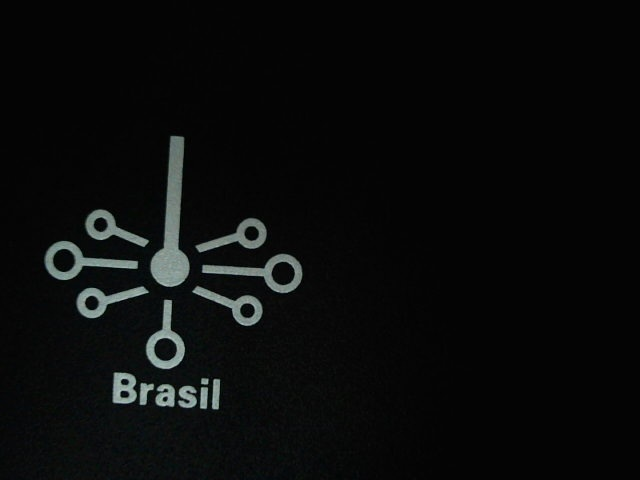BG_Brasil: (24, 116, 317, 420)
